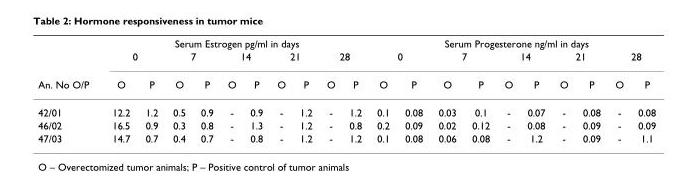table: (37, 37, 655, 143)
table column: (37, 37, 99, 143), (99, 37, 136, 143), (429, 37, 463, 143), (396, 37, 429, 143), (463, 37, 496, 143), (574, 37, 607, 143), (519, 37, 551, 143), (136, 37, 164, 143), (164, 37, 192, 143), (368, 37, 396, 143), (192, 37, 219, 143), (242, 37, 269, 143), (341, 37, 368, 143), (292, 37, 318, 143), (630, 37, 655, 143), (219, 37, 242, 143), (269, 37, 292, 143), (318, 37, 341, 143), (496, 37, 519, 143), (551, 37, 574, 143), (607, 37, 630, 143)
table column header: (37, 37, 655, 98)
table row: (37, 69, 655, 98), (37, 49, 655, 69), (37, 98, 655, 118), (37, 118, 655, 131), (37, 37, 655, 49), (37, 131, 655, 143)
table spanning cell: (37, 37, 99, 98), (368, 37, 655, 49), (99, 37, 368, 49), (429, 49, 496, 69), (99, 49, 164, 69), (368, 49, 429, 69), (551, 49, 607, 69), (164, 49, 219, 69), (496, 49, 551, 69), (219, 49, 269, 69), (318, 49, 368, 69), (269, 49, 318, 69), (607, 49, 655, 69)
